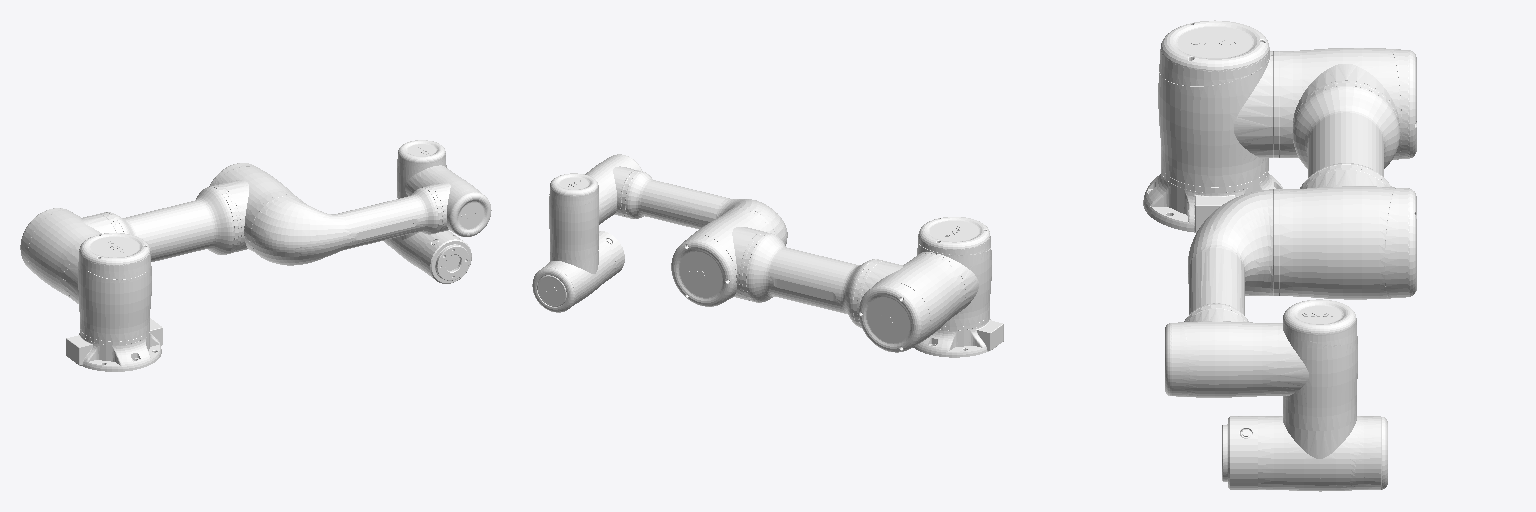
The robot description file, URDF, robot "jaka_zu7_v2":
<?xml version="1.0" encoding="utf-8"?>
<!-- This URDF was automatically created by SolidWorks to URDF Exporter! Originally created by [author] ([email redacted]) 
     Commit Version: 1.6.0-1-g15f4949  Build Version: 1.6.7594.29634
     For more information, please see http://wiki.ros.org/sw_urdf_exporter -->
<robot
  name="jaka_zu7_v2">
  <link
    name="base_link">
    <inertial>
      <origin
        xyz="0.000965034909848577 0.0195530292148323 -7.27080869111029E-08"
        rpy="0 0 0" />
      <mass
        value="0.514609969031532" />
      <inertia
        ixx="0.000621364399247646"
        ixy="3.21692650554867E-06"
        ixz="-3.71184934823013E-09"
        iyy="0.0013529358522947"
        iyz="3.8977685173265E-11"
        izz="0.00086645249213919" />
    </inertial>
    <visual>
      <origin
        xyz="0 0 0"
        rpy="0 0 0" />
      <geometry>
        <mesh
          filename="package://jaka_zu7_v2/meshes/base_link.STL" />
      </geometry>
      <material
        name="">
        <color
          rgba="1 1 1 1" />
      </material>
    </visual>
    <collision>
      <origin
        xyz="0 0 0"
        rpy="0 0 0" />
      <geometry>
        <mesh
          filename="package://jaka_zu7_v2/meshes/base_link.STL" />
      </geometry>
    </collision>
  </link>
  <link
    name="link_1">
    <inertial>
      <origin
        xyz="0.00332253130665769 0.0786385509598458 5.2958727998931E-08"
        rpy="0 0 0" />
      <mass
        value="1.92821258656447" />
      <inertia
        ixx="0.00548947482538057"
        ixy="1.93161087253844E-06"
        ixz="-2.06406149519604E-08"
        iyy="0.00388876051174381"
        iyz="-1.29468636322429E-08"
        izz="0.00564332197967477" />
    </inertial>
    <visual>
      <origin
        xyz="0 0 0"
        rpy="0 0 0" />
      <geometry>
        <mesh
          filename="package://jaka_zu7_v2/meshes/link_1.STL" />
      </geometry>
      <material
        name="">
        <color
          rgba="1 1 1 1" />
      </material>
    </visual>
    <collision>
      <origin
        xyz="0 0 0"
        rpy="0 0 0" />
      <geometry>
        <mesh
          filename="package://jaka_zu7_v2/meshes/link_1.STL" />
      </geometry>
    </collision>
  </link>
  <joint
    name="joint_1"
    type="continuous">
    <origin
      xyz="0 0 0.04"
      rpy="1.5707963267949 0 1.5707963267949" />
    <parent
      link="base_link" />
    <child
      link="link_1" />
    <axis
      xyz="0 1 0" />
  </joint>
  <link
    name="link_2">
    <inertial>
      <origin
        xyz="0.179999937405946 0.0790752745504925 9.75081933252131E-09"
        rpy="0 0 0" />
      <mass
        value="5.46179073513085" />
      <inertia
        ixx="0.0129179479280493"
        ixy="-2.71044464180044E-08"
        ixz="-1.50487643543411E-08"
        iyy="0.138149394009534"
        iyz="-2.73361042997731E-09"
        izz="0.141659548589032" />
    </inertial>
    <visual>
      <origin
        xyz="0 0 0"
        rpy="0 0 0" />
      <geometry>
        <mesh
          filename="package://jaka_zu7_v2/meshes/link_2.STL" />
      </geometry>
      <material
        name="">
        <color
          rgba="1 1 1 1" />
      </material>
    </visual>
    <collision>
      <origin
        xyz="0 0 0"
        rpy="0 0 0" />
      <geometry>
        <mesh
          filename="package://jaka_zu7_v2/meshes/link_2.STL" />
      </geometry>
    </collision>
  </link>
  <joint
    name="joint_2"
    type="continuous">
    <origin
      xyz="0.064 0.0801499805565675 0"
      rpy="-1.5707963267949 -1.5707963267949 0" />
    <parent
      link="link_1" />
    <child
      link="link_2" />
    <axis
      xyz="0 1 0" />
  </joint>
  <link
    name="link_3">
    <inertial>
      <origin
        xyz="0.155128159726302 0.0514243418134301 -2.21667684600496E-05"
        rpy="0 0 0" />
      <mass
        value="2.10988248004298" />
      <inertia
        ixx="0.00267097214313929"
        ixy="-0.00234320623456127"
        ixz="2.68932154375193E-07"
        iyy="0.0354758560218789"
        iyz="-5.66886998256416E-09"
        izz="0.0361345568869166" />
    </inertial>
    <visual>
      <origin
        xyz="0 0 0"
        rpy="0 0 0" />
      <geometry>
        <mesh
          filename="package://jaka_zu7_v2/meshes/link_3.STL" />
      </geometry>
      <material
        name="">
        <color
          rgba="1 1 1 1" />
      </material>
    </visual>
    <collision>
      <origin
        xyz="0 0 0"
        rpy="0 0 0" />
      <geometry>
        <mesh
          filename="package://jaka_zu7_v2/meshes/link_3.STL" />
      </geometry>
    </collision>
  </link>
  <joint
    name="joint_3"
    type="continuous">
    <origin
      xyz="0.36 0 0"
      rpy="3.14159265358979 0 0" />
    <parent
      link="link_2" />
    <child
      link="link_3" />
    <axis
      xyz="0 1 0" />
  </joint>
  <link
    name="link_4">
    <inertial>
      <origin
        xyz="0.0428277143121445 -0.00580000262750839 -2.15426459782009E-07"
        rpy="0 0 0" />
      <mass
        value="0.707389472258975" />
      <inertia
        ixx="0.00114244205941306"
        ixy="1.06377457242975E-05"
        ixz="-1.00655969113403E-08"
        iyy="0.000665673392092465"
        iyz="4.52474533922176E-09"
        izz="0.00117908344473012" />
    </inertial>
    <visual>
      <origin
        xyz="0 0 0"
        rpy="0 0 0" />
      <geometry>
        <mesh
          filename="package://jaka_zu7_v2/meshes/link_4.STL" />
      </geometry>
      <material
        name="">
        <color
          rgba="1 1 1 1" />
      </material>
    </visual>
    <collision>
      <origin
        xyz="0 0 0"
        rpy="0 0 0" />
      <geometry>
        <mesh
          filename="package://jaka_zu7_v2/meshes/link_4.STL" />
      </geometry>
    </collision>
  </link>
  <joint
    name="joint_4"
    type="continuous">
    <origin
      xyz="0.303500360870988 -0.00551249887704253 -2.30390977538769E-05"
      rpy="-1.5707963267949 0 -1.5707963267949" />
    <parent
      link="link_3" />
    <child
      link="link_4" />
    <axis
      xyz="1 0 0" />
  </joint>
  <link
    name="link_5">
    <inertial>
      <origin
        xyz="-0.0431572815381937 0.00288955773134447 1.49710568941863E-07"
        rpy="0 0 0" />
      <mass
        value="0.806937512326124" />
      <inertia
        ixx="0.0016178075971003"
        ixy="5.79122309605624E-06"
        ixz="-2.27237716815389E-08"
        iyy="0.000744722110552353"
        iyz="6.4924718539349E-10"
        izz="0.00165512070235347" />
    </inertial>
    <visual>
      <origin
        xyz="0 0 0"
        rpy="0 0 0" />
      <geometry>
        <mesh
          filename="package://jaka_zu7_v2/meshes/link_5.STL" />
      </geometry>
      <material
        name="">
        <color
          rgba="1 1 1 1" />
      </material>
    </visual>
    <collision>
      <origin
        xyz="0 0 0"
        rpy="0 0 0" />
      <geometry>
        <mesh
          filename="package://jaka_zu7_v2/meshes/link_5.STL" />
      </geometry>
    </collision>
  </link>
  <joint
    name="joint_5"
    type="continuous">
    <origin
      xyz="0.0455 -0.0680000000070426 0"
      rpy="3.14159265358979 0 1.5707963267949" />
    <parent
      link="link_4" />
    <child
      link="link_5" />
    <axis
      xyz="1 0 0" />
  </joint>
  <link
    name="link_6">
    <inertial>
      <origin
        xyz="-1.97890204940432E-05 -0.0177548861304407 2.35655774806776E-05"
        rpy="0 0 0" />
      <mass
        value="0.180494479521819" />
      <inertia
        ixx="9.15750415659571E-05"
        ixy="-3.15858980075031E-08"
        ixz="1.86044178570153E-07"
        iyy="0.000144413544278706"
        iyz="1.29636476465431E-07"
        izz="9.21528525921217E-05" />
    </inertial>
    <visual>
      <origin
        xyz="0 0 0"
        rpy="0 0 0" />
      <geometry>
        <mesh
          filename="package://jaka_zu7_v2/meshes/link_6.STL" />
      </geometry>
      <material
        name="">
        <color
          rgba="1 1 1 1" />
      </material>
    </visual>
    <collision>
      <origin
        xyz="0 0 0"
        rpy="0 0 0" />
      <geometry>
        <mesh
          filename="package://jaka_zu7_v2/meshes/link_6.STL" />
      </geometry>
    </collision>
  </link>
  <joint
    name="joint_6"
    type="continuous">
    <origin
      xyz="-0.0455 -0.0680000000070427 0"
      rpy="3.14159265358979 -1.15491803400099 -3.14159265358979" />
    <parent
      link="link_5" />
    <child
      link="link_6" />
    <axis
      xyz="0 1 0" />
  </joint>
</robot>

--- Facts derived from the render (not from the file) ---
The picture shows the robot from 3 angles, left to right: view 1: azimuth 30°, elevation 25°; view 2: azimuth 150°, elevation 25°; view 3: azimuth 270°, elevation 25°; orthographic projection.
Robot: jaka_zu7_v2 — 7 links, 6 joints (6 continuous); root link base_link; default pose: every joint at zero.
Visible links, largest first — view 1: link_2, link_3, link_1, base_link, link_6, link_4, link_5; view 2: link_2, link_3, link_1, link_4, link_5, base_link; view 3: link_2, link_1, link_3, link_4, link_5, base_link, link_6.
Boxes of the visible links, x1,y1,x2,y2 form: link_2: [20, 163, 297, 300]; link_3: [251, 167, 491, 265]; link_1: [66, 233, 151, 344]; base_link: [66, 318, 162, 371]; link_6: [421, 233, 471, 283]; link_4: [397, 140, 447, 198]; link_5: [384, 230, 452, 272]; link_2: [671, 208, 965, 352]; link_3: [585, 154, 787, 245]; link_1: [914, 217, 991, 330]; link_4: [549, 173, 608, 259]; link_5: [532, 240, 615, 312]; base_link: [913, 318, 1003, 357]; link_2: [1273, 48, 1416, 299]; link_1: [1158, 20, 1272, 192]; link_3: [1165, 189, 1277, 397]; link_4: [1278, 299, 1357, 430]; link_5: [1258, 416, 1387, 491]; base_link: [1143, 171, 1282, 232]; link_6: [1222, 416, 1257, 489].
Bounding box of the posed robot: 0.7877 × 0.3006 × 0.2332 m (x, y, z).
Meshes: 7 distinct files referenced, 7 mesh visuals loaded (7 binary STL).
